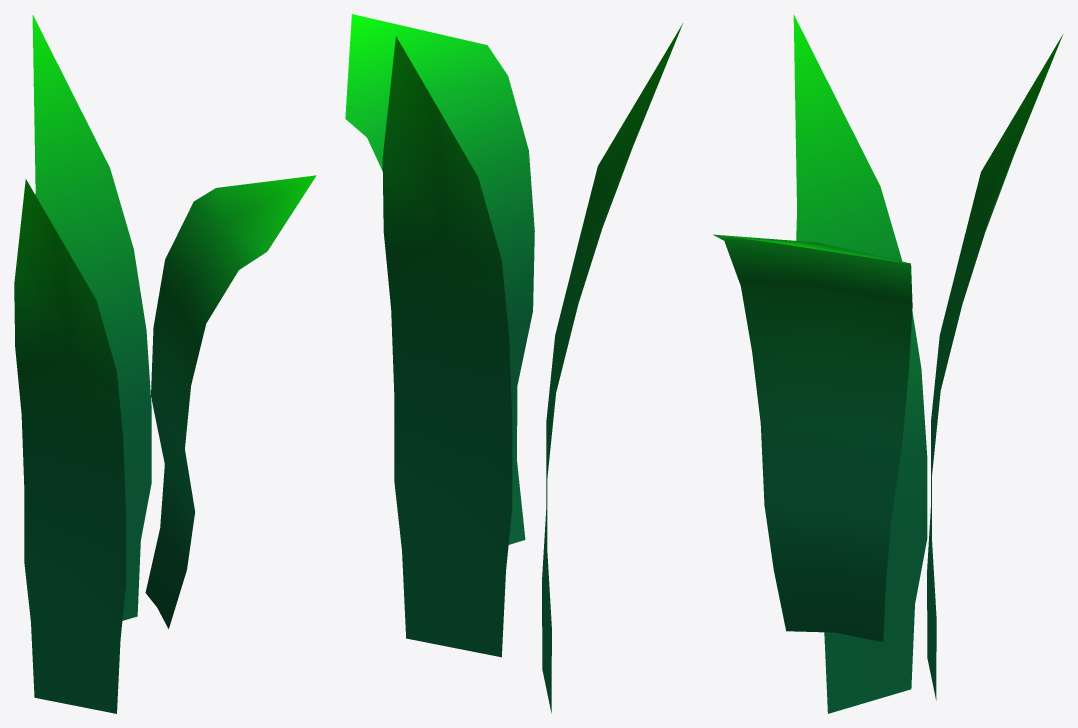
File: Grass_Tall2.FBX
3 views of the same model, side by side, from view 1: azimuth 30°, elevation 25°; view 2: azimuth 150°, elevation 25°; view 3: azimuth 270°, elevation 25° (orthographic). The views are drawn at different scales.
Visible parts, largest first — view 1: Plane011, Plane014, Plane016, Plane012, Plane015, Plane013; view 2: Plane014, Plane013, Plane016, Plane012, Plane015, Plane011; view 3: Plane016, Plane015, Plane012, Plane011, Plane014, Plane013.
Part boxes in pixels (x1,y1,x2,y2): Plane011: (14,179,125,713); Plane014: (32,15,145,402); Plane016: (156,175,316,389); Plane012: (15,250,125,700); Plane015: (145,279,224,628); Plane013: (98,273,151,620); Plane014: (385,168,512,657); Plane013: (382,36,510,375); Plane016: (345,14,534,270); Plane012: (543,23,682,671); Plane015: (492,149,534,544); Plane011: (542,26,681,713); Plane016: (714,234,910,641); Plane015: (713,234,912,388); Plane012: (793,14,927,712); Plane011: (810,154,927,713); Plane014: (932,34,1062,616); Plane013: (927,159,1012,700).
Size of the model in its own units: 76.66 by 157 by 72.22.
1 material, 1 textured.
